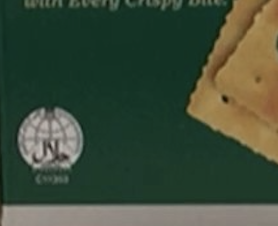halal: (26, 129, 75, 164)
